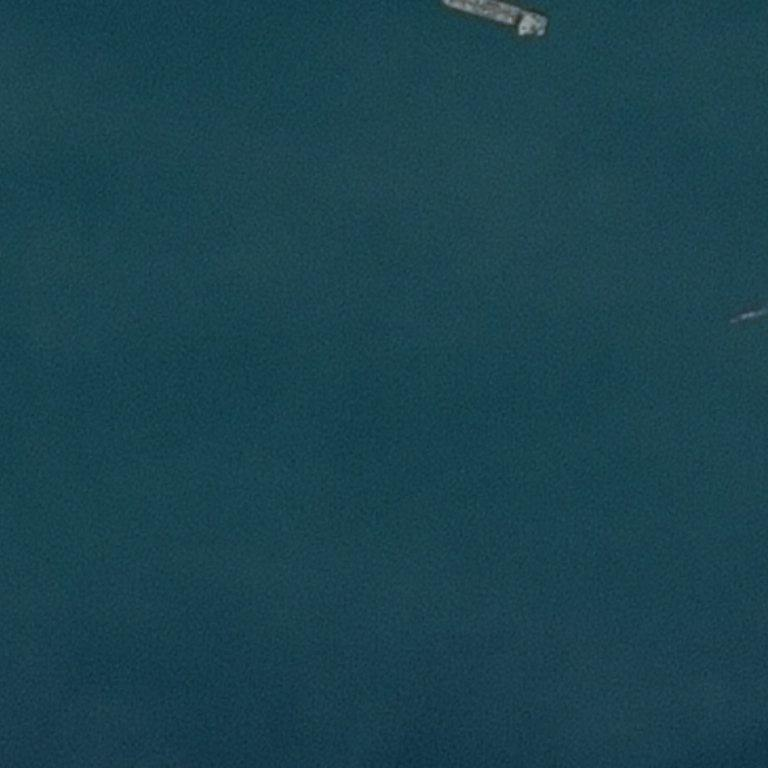ship: (437, 19, 552, 26), (731, 309, 761, 324)
